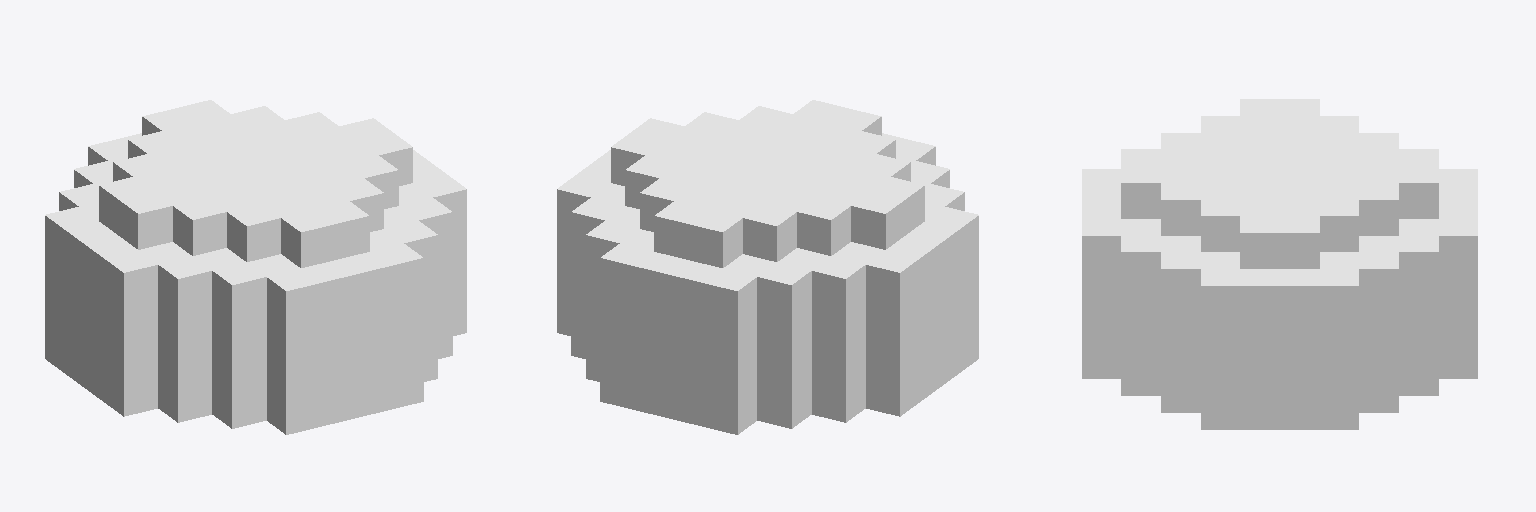
The model's file is button_up_pressed.obj.
3 renders of one model, left to right at view 1: azimuth 30°, elevation 25°; view 2: azimuth 150°, elevation 25°; view 3: azimuth 270°, elevation 25°, orthographic.
Visible parts, largest first — view 1: object 1; view 2: object 1; view 3: object 1.
Boxes of the visible parts, box(x1,y1,x2,y2) form: object 1: box(45, 100, 466, 434); object 1: box(557, 100, 978, 434); object 1: box(1082, 99, 1477, 429).
Bounding box in the file's own units: 1 × 0.5 × 1.